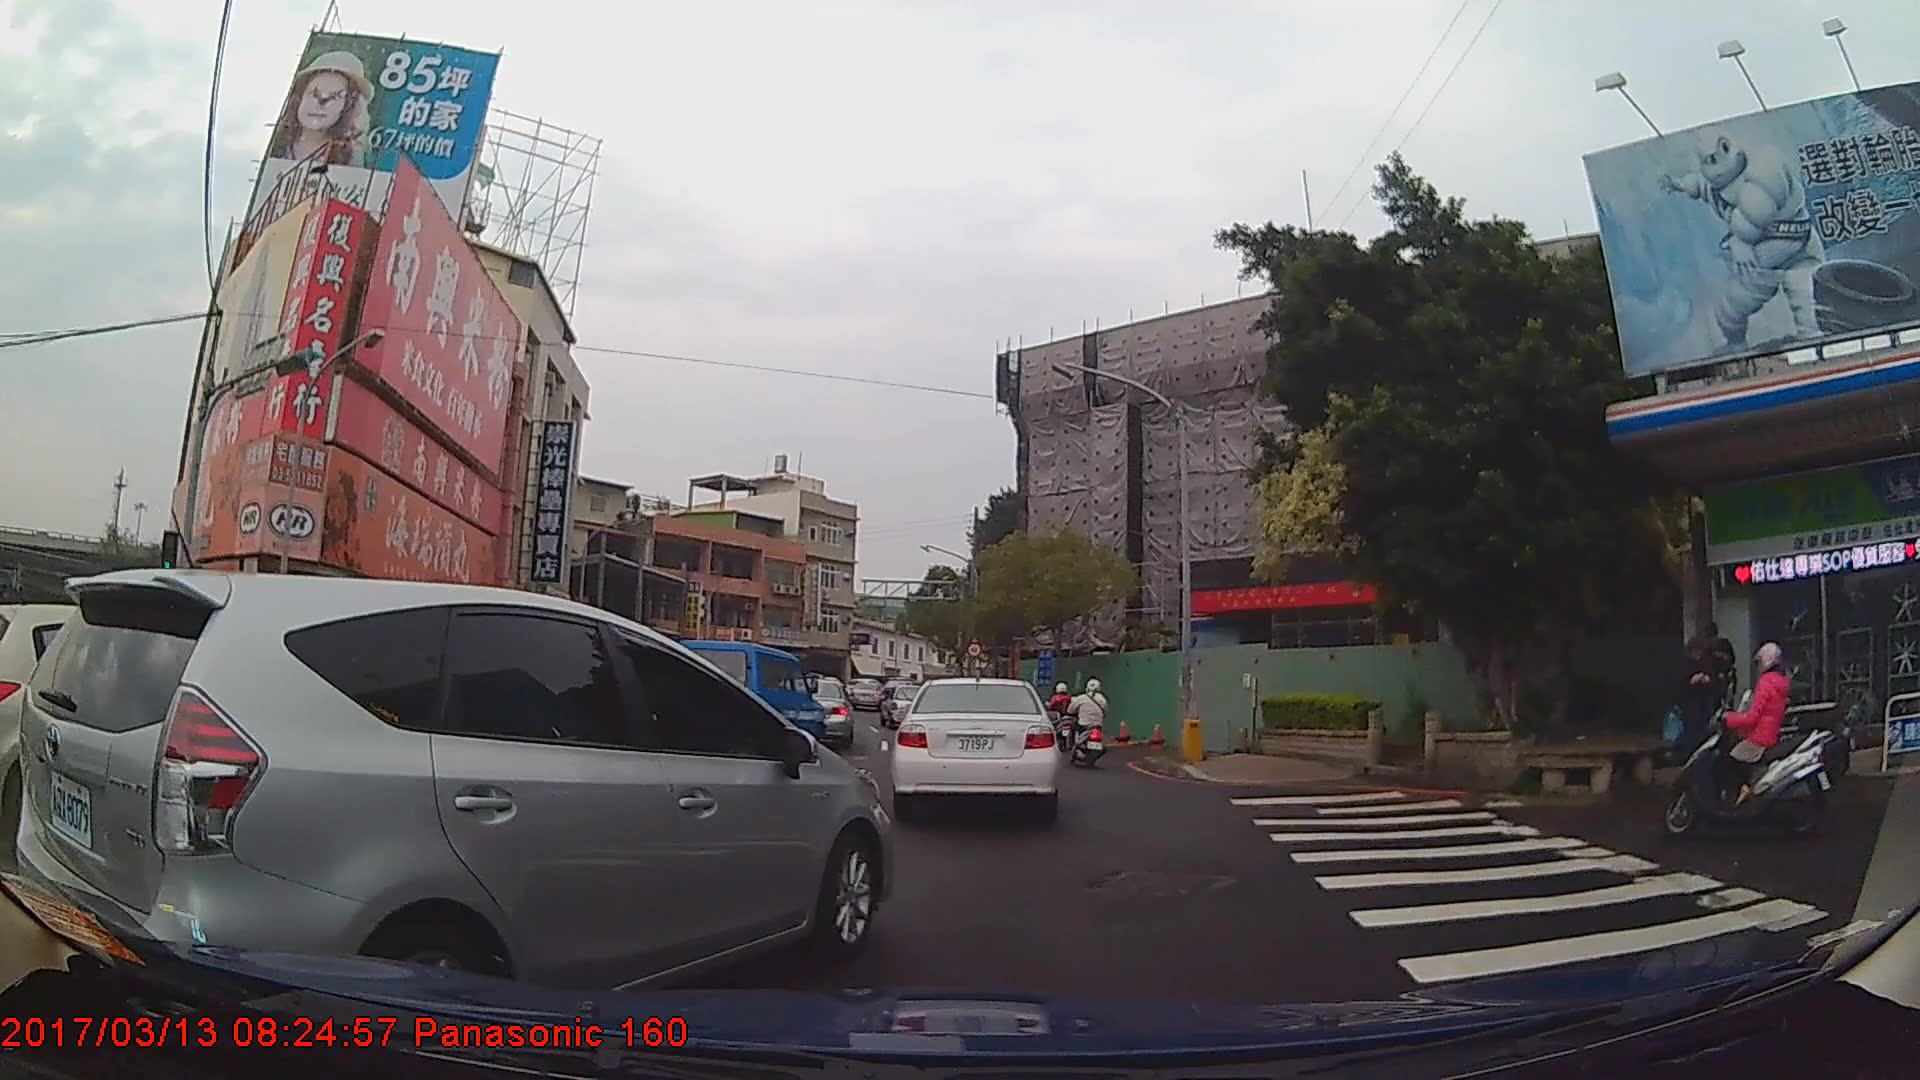pedestrian: (1685, 638, 1738, 805), (1696, 621, 1742, 750)
rider: (1661, 638, 1837, 840), (1071, 679, 1108, 769), (1047, 681, 1081, 754)
vehicle: (12, 568, 897, 1043), (889, 675, 1063, 825), (779, 679, 855, 751)
